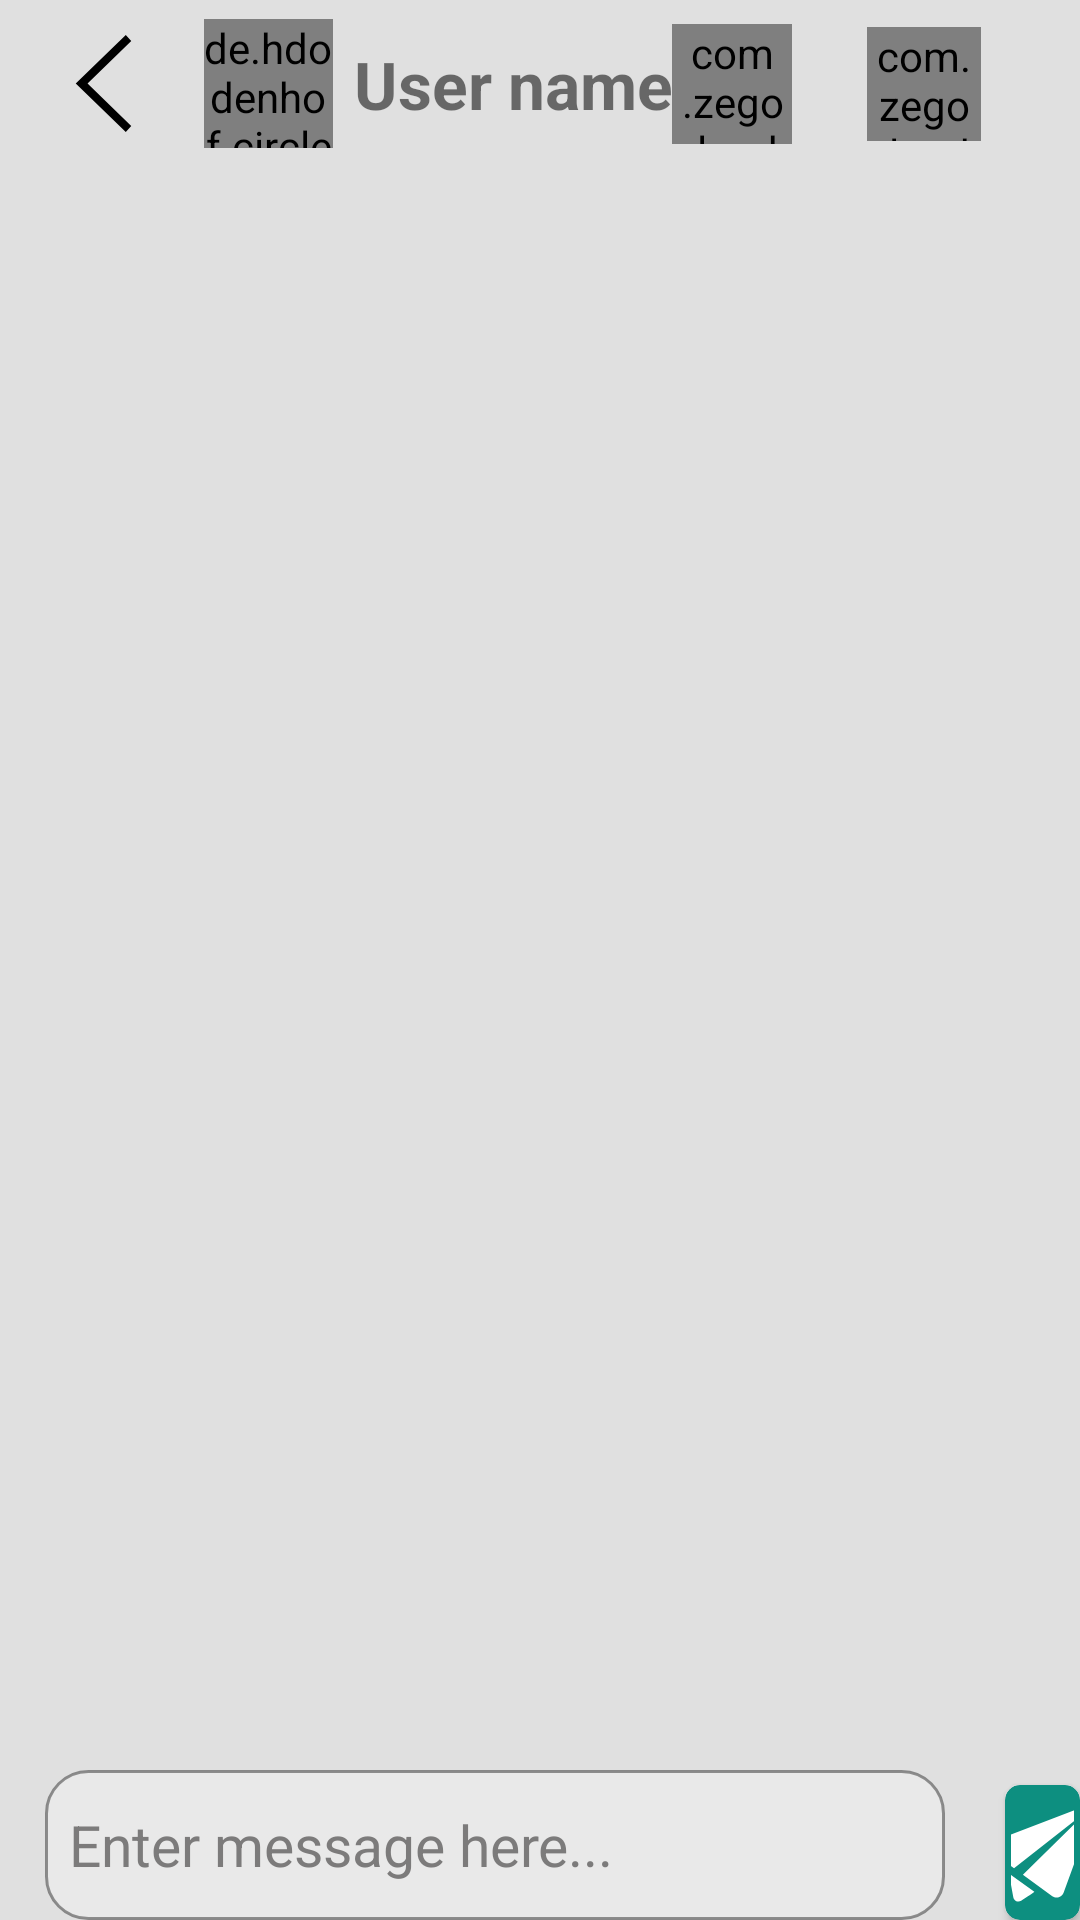

Icon click points for this 1080px×1920px phone screenshot, format (x=x, y=y):
gui email send: (x=1042, y=1856)
left arrow backup: (x=103, y=83)
